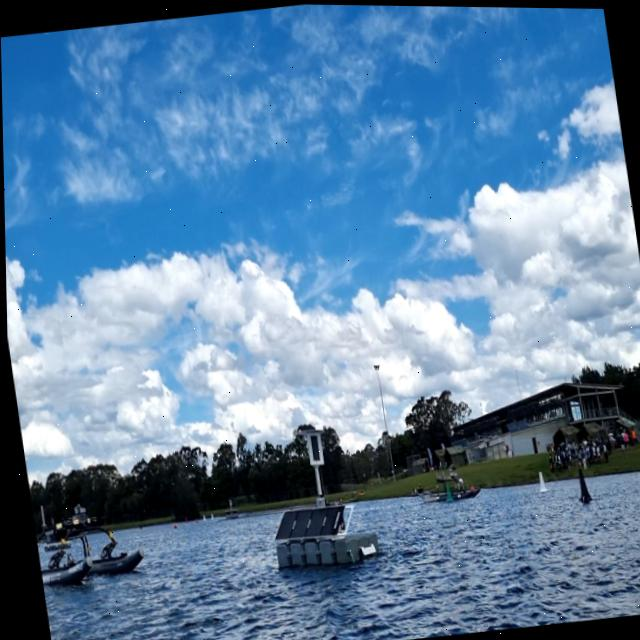led: (305, 431, 321, 463)
